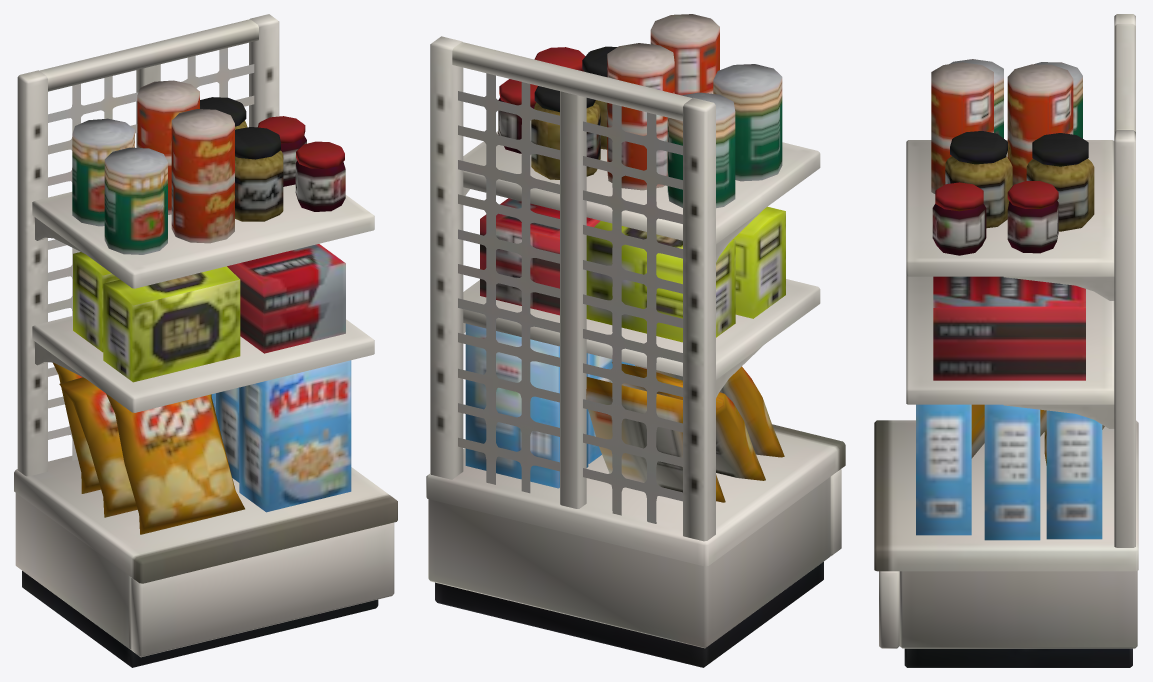
3 renders of one model, left to right at view 1: azimuth 30°, elevation 25°; view 2: azimuth 150°, elevation 25°; view 3: azimuth 270°, elevation 25°, orthographic. The views are drawn at different scales.
Size of the model in its own units: 10 by 18.99 by 8.6.
Materials: 2 (2 with a texture image).
